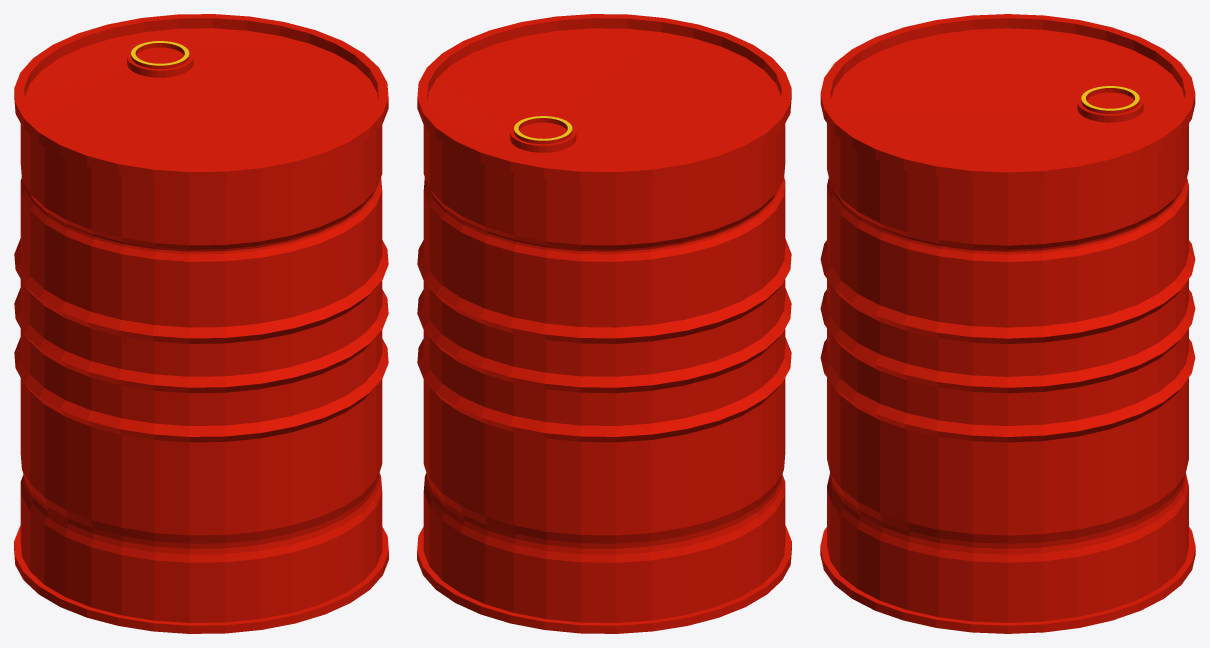
Rendered from metal barel.gltf.
The picture shows the model from 3 angles, left to right: view 1: azimuth 30°, elevation 25°; view 2: azimuth 150°, elevation 25°; view 3: azimuth 270°, elevation 25°; orthographic projection.
Visible parts, largest first — view 1: Cylinder; view 2: Cylinder; view 3: Cylinder.
Part boxes in pixels (x1,y1,x2,y2): Cylinder: (14, 14, 388, 633); Cylinder: (417, 14, 791, 633); Cylinder: (820, 14, 1195, 633).
Size of the model in its own units: 2.07 by 2.81 by 2.07.
